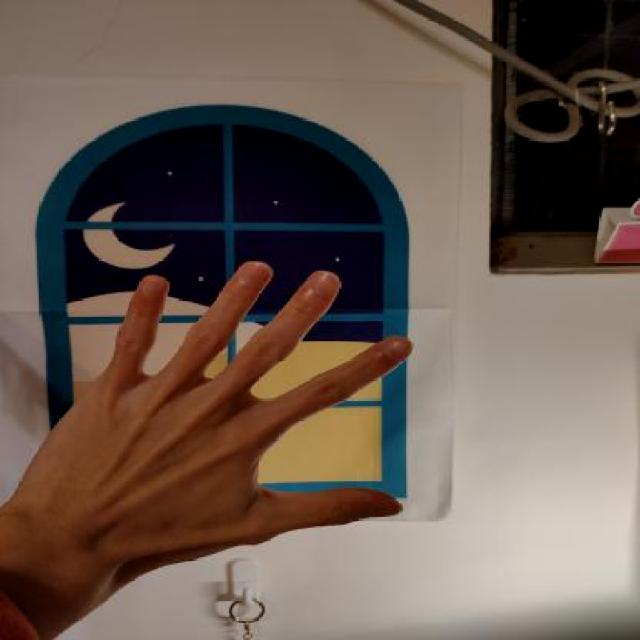no_glove: (1, 243, 428, 586)
